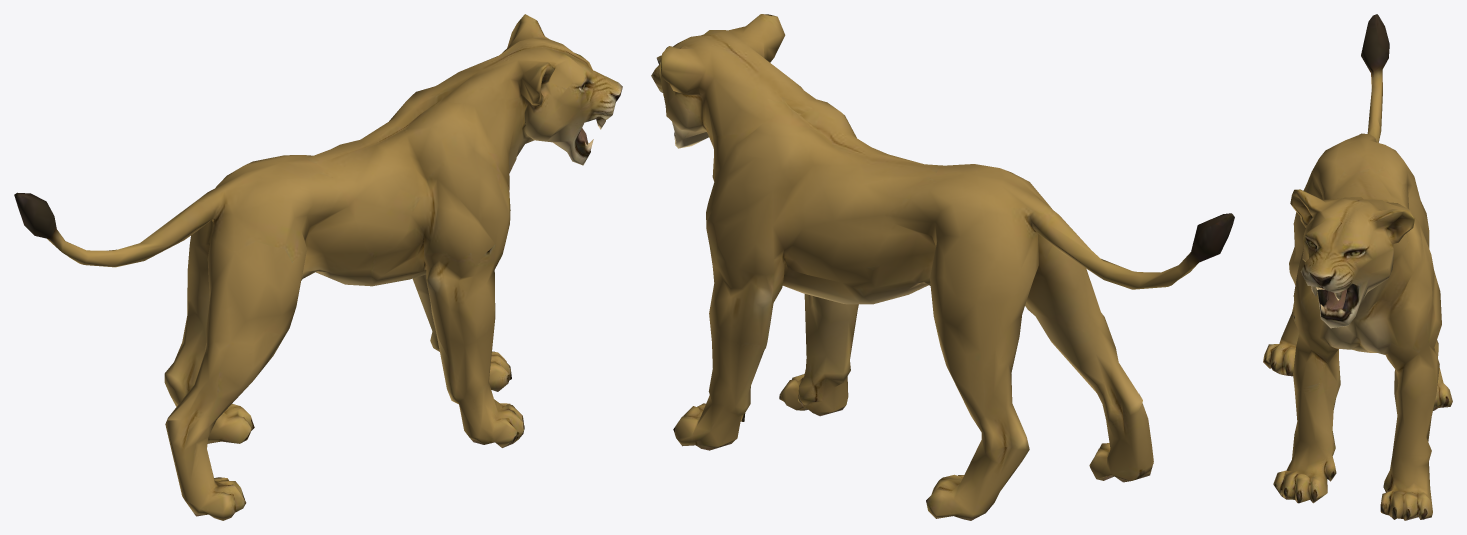
Rendered from SORRELPAW-lo.glb.
3 views of the same model, side by side, from view 1: azimuth 30°, elevation 25°; view 2: azimuth 150°, elevation 25°; view 3: azimuth 270°, elevation 25° (orthographic). The views are drawn at different scales.
Visible parts, largest first — view 1: tripo_node_b6609dab-f1d8-44f3-8fad-e3bcf2cb8415; view 2: tripo_node_b6609dab-f1d8-44f3-8fad-e3bcf2cb8415; view 3: tripo_node_b6609dab-f1d8-44f3-8fad-e3bcf2cb8415.
Part boxes in pixels (x1,y1,x2,y2): tripo_node_b6609dab-f1d8-44f3-8fad-e3bcf2cb8415: [14, 14, 622, 520]; tripo_node_b6609dab-f1d8-44f3-8fad-e3bcf2cb8415: [651, 14, 1234, 520]; tripo_node_b6609dab-f1d8-44f3-8fad-e3bcf2cb8415: [1263, 14, 1452, 520].
Size of the model in its own units: 1.67 by 0.9986 by 0.5279.
Materials: 1 (1 with a texture image).
